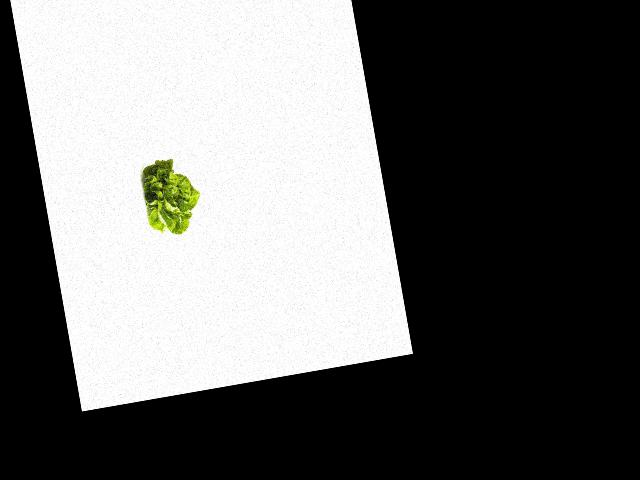lettuce: (137, 153, 205, 241)
